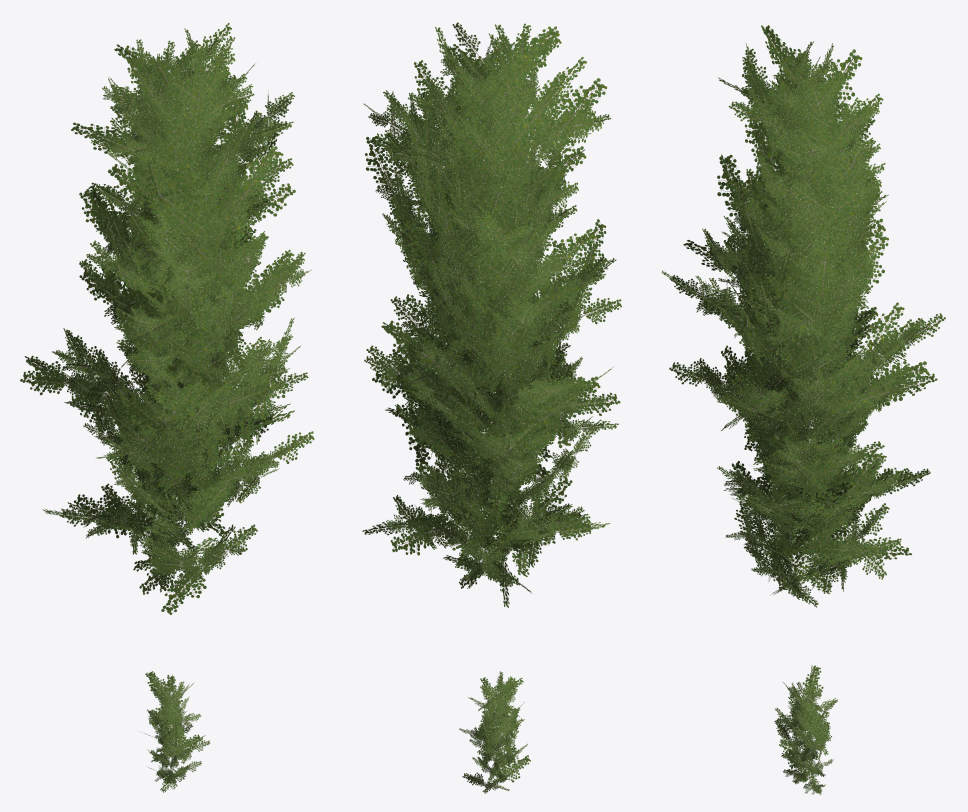
File: aspen_leaf.glb
3 views of the same model, side by side, from view 1: azimuth 30°, elevation 25°; view 2: azimuth 150°, elevation 25°; view 3: azimuth 270°, elevation 25° (orthographic).
Parts seen in each view (by area): view 1: aspen_a_l1, aspen_a_l2, aspen_a, aspen_b_l1, aspen_b, aspen_b_l2, aspen_sap_a, aspen_sap_a_l1, aspen_sap_a_l2; view 2: aspen_a, aspen_a_l2, aspen_a_l1, aspen_b_l1, aspen_b, aspen_b_l2, aspen_sap_a, aspen_sap_a_l1, aspen_sap_a_l2; view 3: aspen_a_l2, aspen_a, aspen_a_l1, aspen_b, aspen_b_l1, aspen_b_l2, aspen_sap_a, aspen_sap_a_l1, aspen_sap_a_l2.
Boxes of the visible parts, box(x1,y1,x2,y2) form: aspen_a_l1: box(34, 28, 311, 551); aspen_a_l2: box(20, 23, 295, 538); aspen_a: box(48, 37, 305, 538); aspen_b_l1: box(52, 154, 295, 599); aspen_b: box(59, 172, 300, 589); aspen_b_l2: box(42, 144, 314, 614); aspen_sap_a: box(148, 676, 201, 784); aspen_sap_a_l1: box(144, 674, 210, 792); aspen_sap_a_l2: box(145, 671, 205, 783); aspen_a: box(363, 33, 610, 548); aspen_a_l2: box(365, 26, 620, 557); aspen_a_l1: box(366, 22, 606, 550); aspen_b_l1: box(362, 166, 621, 580); aspen_b: box(395, 165, 612, 588); aspen_b_l2: box(390, 170, 616, 607); aspen_sap_a: box(459, 675, 520, 793); aspen_sap_a_l1: box(462, 671, 527, 790); aspen_sap_a_l2: box(468, 676, 530, 782); aspen_a_l2: box(669, 25, 945, 570); aspen_a: box(669, 50, 928, 547); aspen_a_l1: box(661, 43, 930, 553); aspen_b: box(717, 180, 896, 607); aspen_b_l1: box(719, 168, 901, 601); aspen_b_l2: box(721, 173, 911, 594); aspen_sap_a: box(777, 679, 837, 794); aspen_sap_a_l1: box(774, 682, 831, 794); aspen_sap_a_l2: box(779, 665, 835, 782).
Bounding box in the file's own units: 7.5 × 20.12 × 7.04.
1 material, 1 textured.
